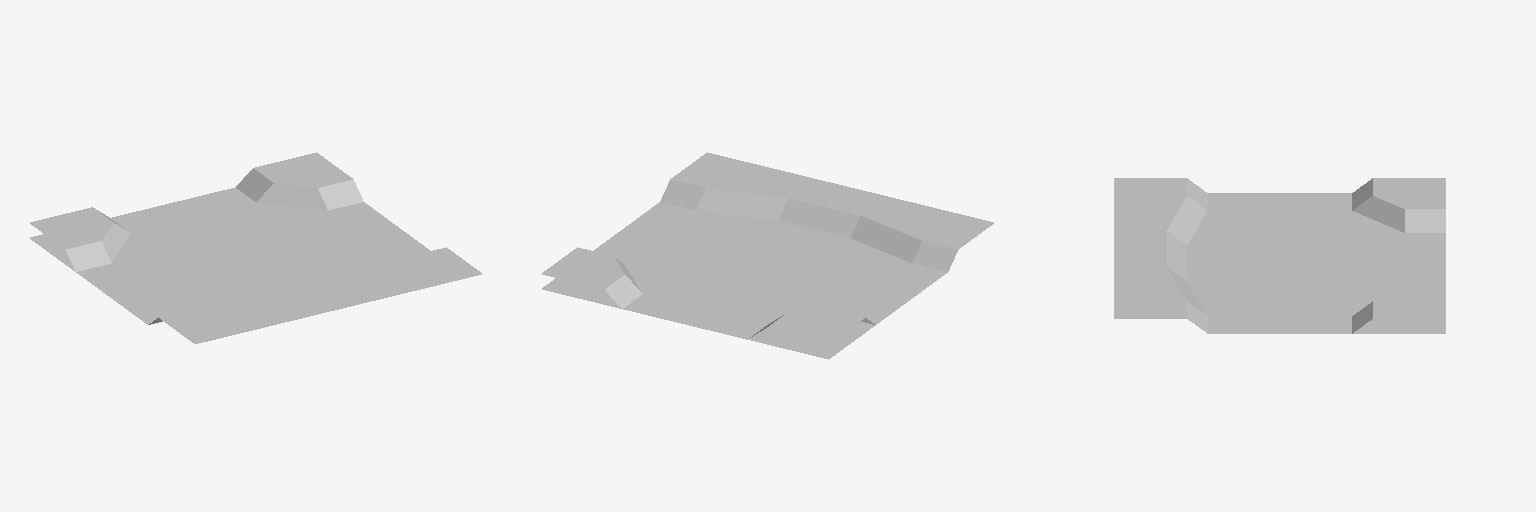
Rendered from ground_riverSideStraight.obj.
The picture shows the model from 3 angles: view 1: azimuth 30°, elevation 25°; view 2: azimuth 150°, elevation 25°; view 3: azimuth 270°, elevation 25°; orthographic projection.
Parts seen in each view (by area): view 1: ground_pathSideOpen; view 2: ground_pathSideOpen; view 3: ground_pathSideOpen.
Boxes of the visible parts, box(x1,y1,x2,y2) form: ground_pathSideOpen: box(30, 152, 481, 343); ground_pathSideOpen: box(542, 152, 993, 359); ground_pathSideOpen: box(1114, 178, 1445, 333).
Size of the model in its own units: 1 by 0.05 by 1.